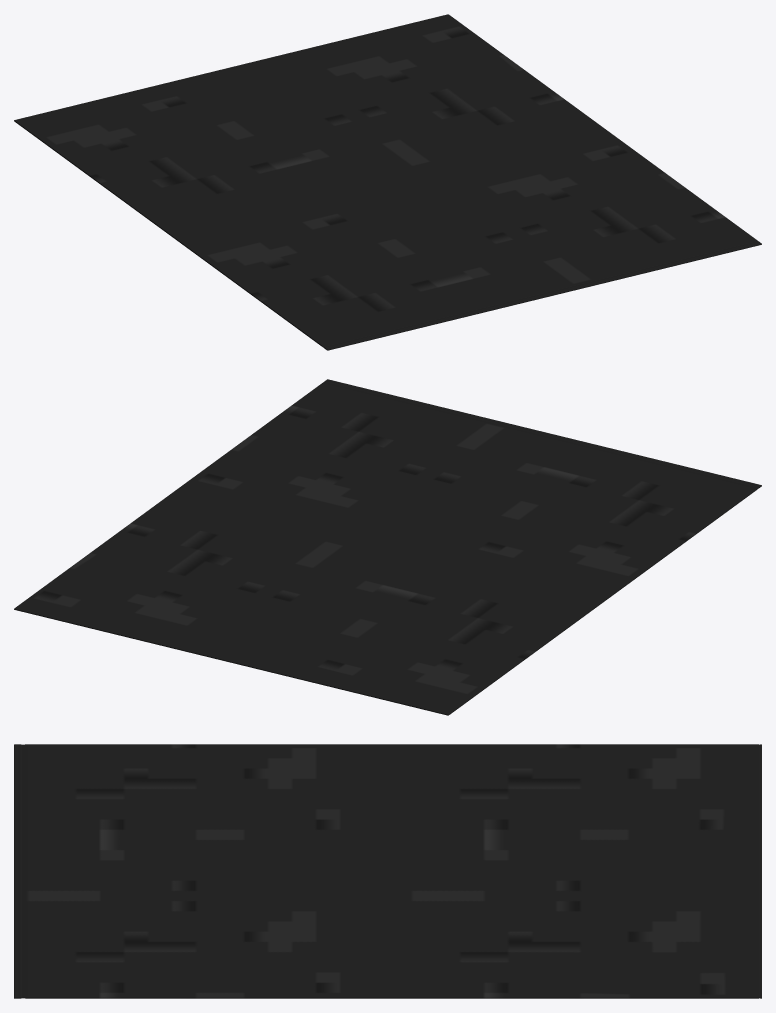
Rendered from Project Name.glb.
The picture shows the model from 3 angles, top to bottom: view 1: azimuth 30°, elevation 25°; view 2: azimuth 150°, elevation 25°; view 3: azimuth 270°, elevation 25°; orthographic projection. The views are drawn at different scales.
Parts seen in each view (by area): view 1: 51072_StrellaRug_Grey; view 2: 51072_StrellaRug_Grey; view 3: 51072_StrellaRug_Grey.
Part boxes in pixels (box(x1,y1,x2,y2)): 51072_StrellaRug_Grey: box(14, 14, 761, 350); 51072_StrellaRug_Grey: box(14, 379, 761, 715); 51072_StrellaRug_Grey: box(14, 744, 761, 998).
Size of the model in its own units: 2.44 by 0.00716 by 3.05.
1 material, 1 textured.
